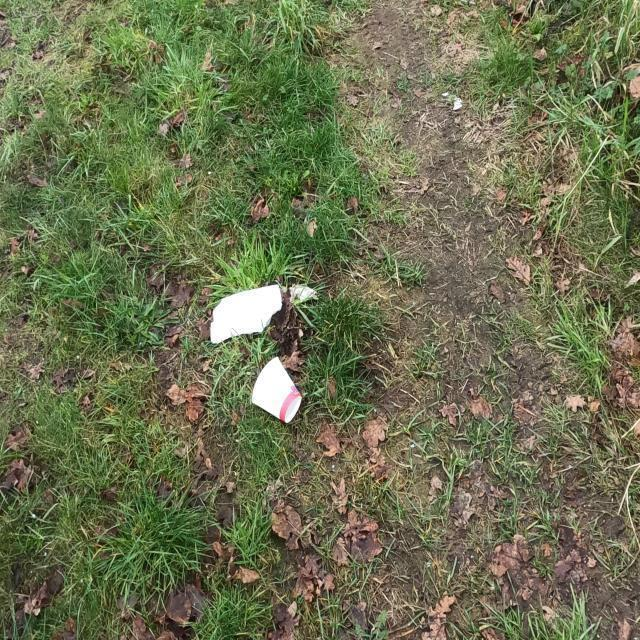Cup: (250, 356, 303, 424)
